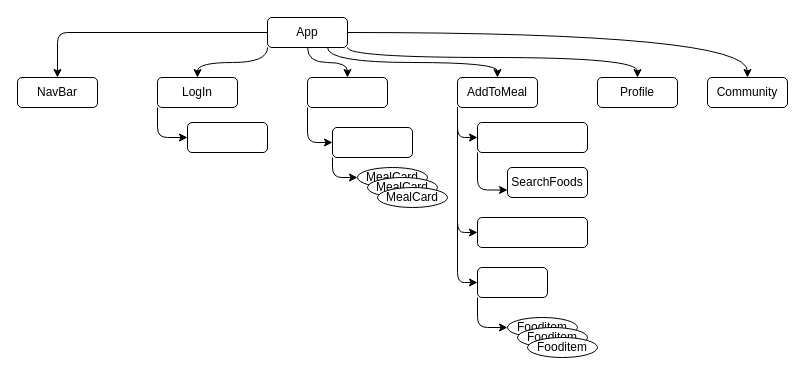
Some shapes in this 805 by 375 pixel diagram are drawn without their labels. Each missing label, with the centre of its shape:
"AddToMealForm" goes at point 532,137.
"CreateAFoodForm" goes at point 532,232.
"FoodList" goes at point 512,282.
"MealList" goes at point 372,142.
"MealLog" goes at point 347,92.
"SignUp" goes at point 227,137.
